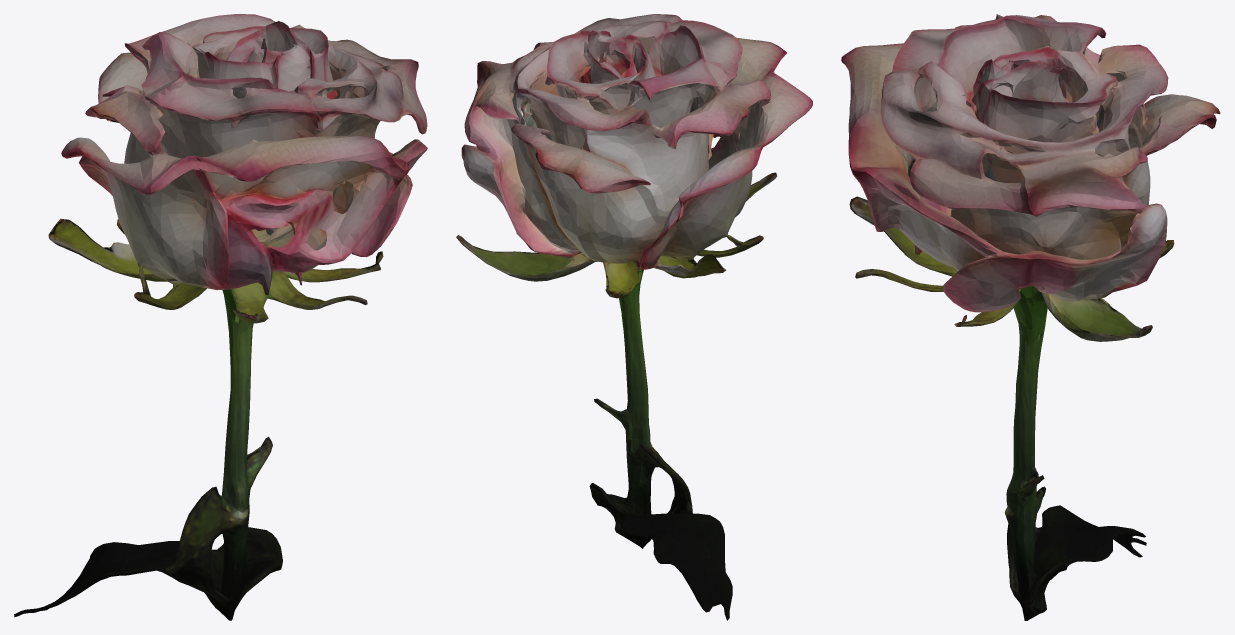
The picture shows the model from 3 angles, left to right: view 1: azimuth 30°, elevation 25°; view 2: azimuth 150°, elevation 25°; view 3: azimuth 270°, elevation 25°; orthographic projection. The views are drawn at different scales.
Visible parts, largest first — view 1: world; view 2: world; view 3: world.
Boxes of the visible parts, left/top/right/bottom form: world: left=14, top=14, right=427, bottom=620; world: left=456, top=14, right=812, bottom=620; world: left=841, top=14, right=1220, bottom=620.
Bounding box in the file's own units: 0.6194 × 0.9956 × 0.5798.
Materials: 1 (1 with a texture image).
